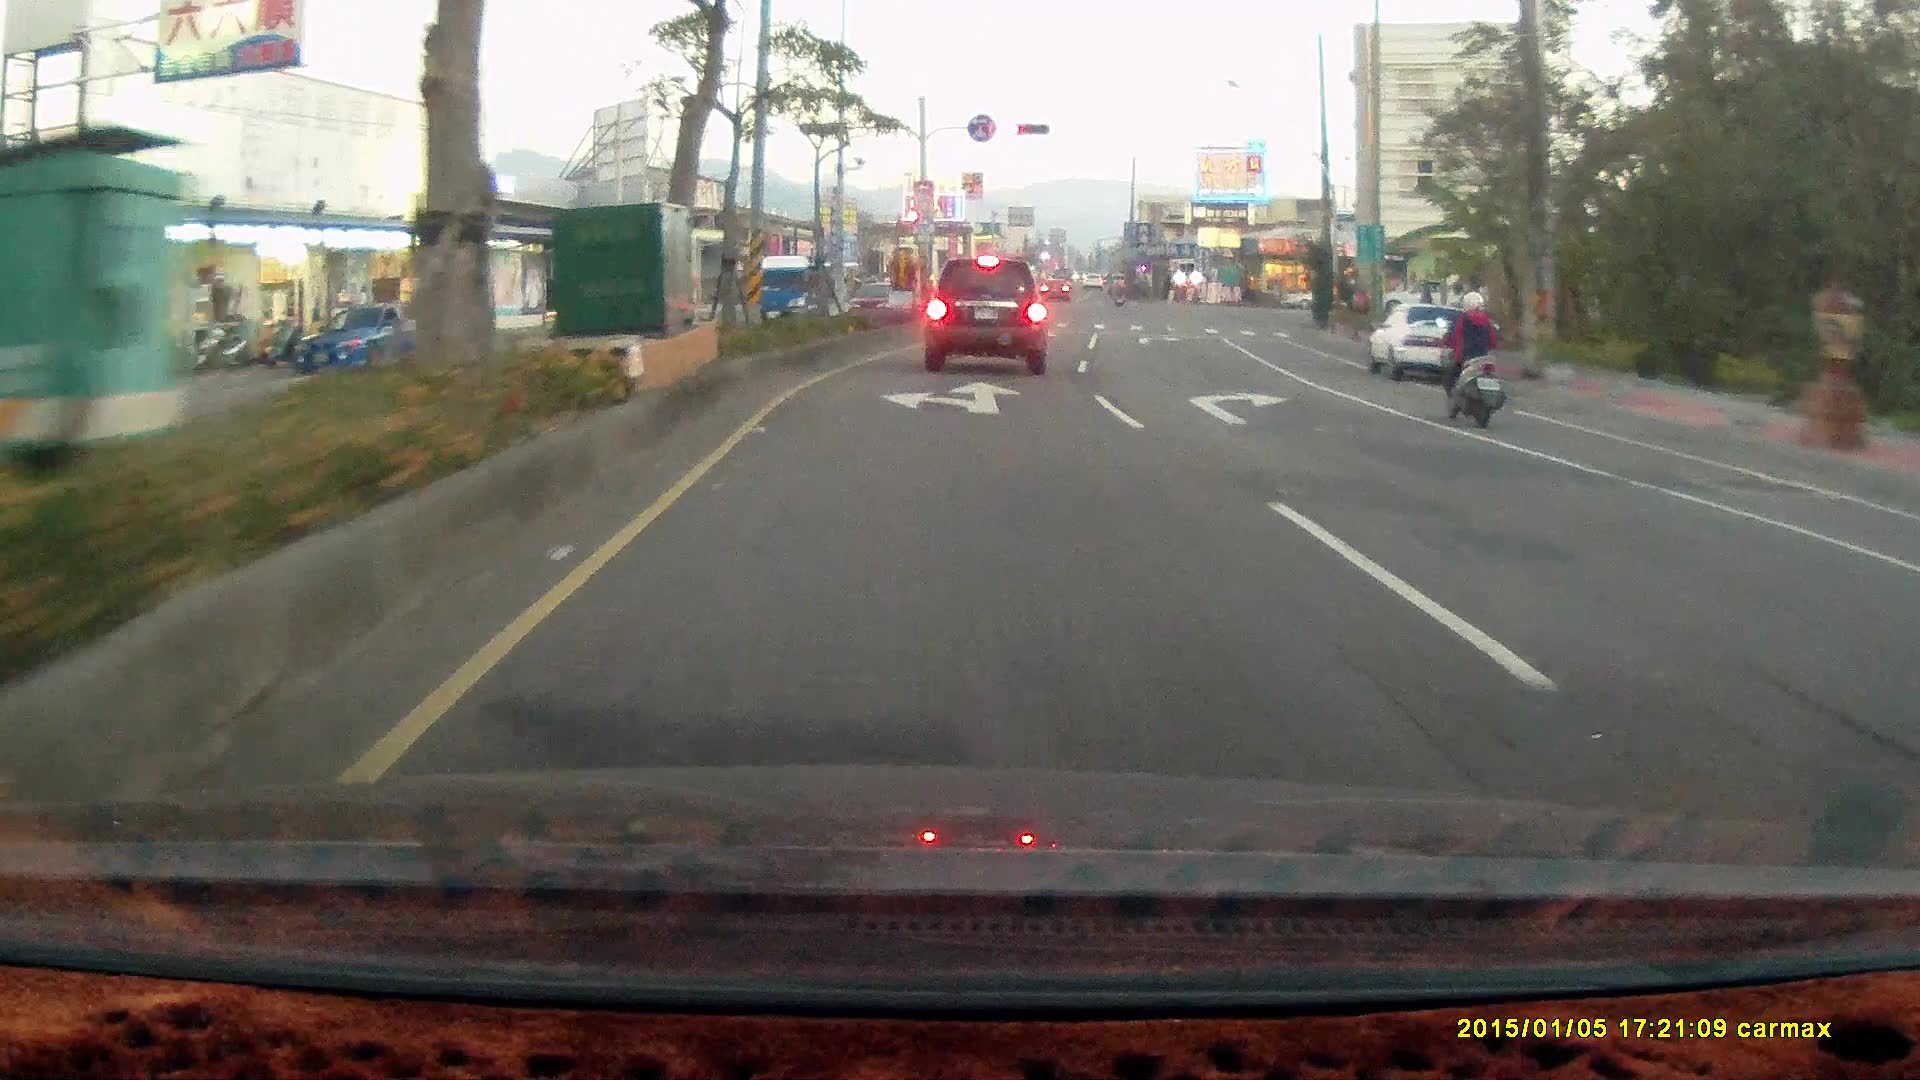rider: (1431, 286, 1509, 426)
vehicle: (922, 256, 1045, 374), (1369, 304, 1507, 382), (1363, 302, 1494, 384), (298, 301, 435, 375), (1896, 493, 1920, 836), (1883, 528, 1920, 690), (1376, 276, 1466, 314)
